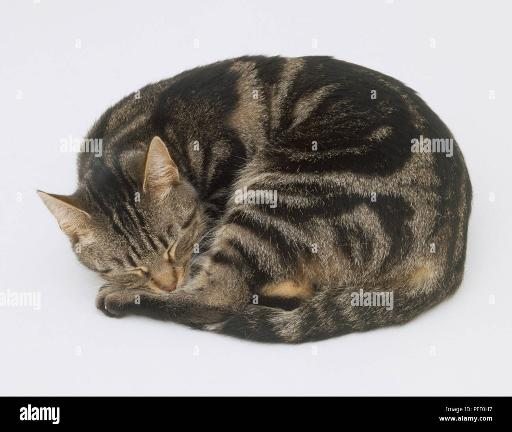cat_sleeping: (37, 56, 471, 343)
